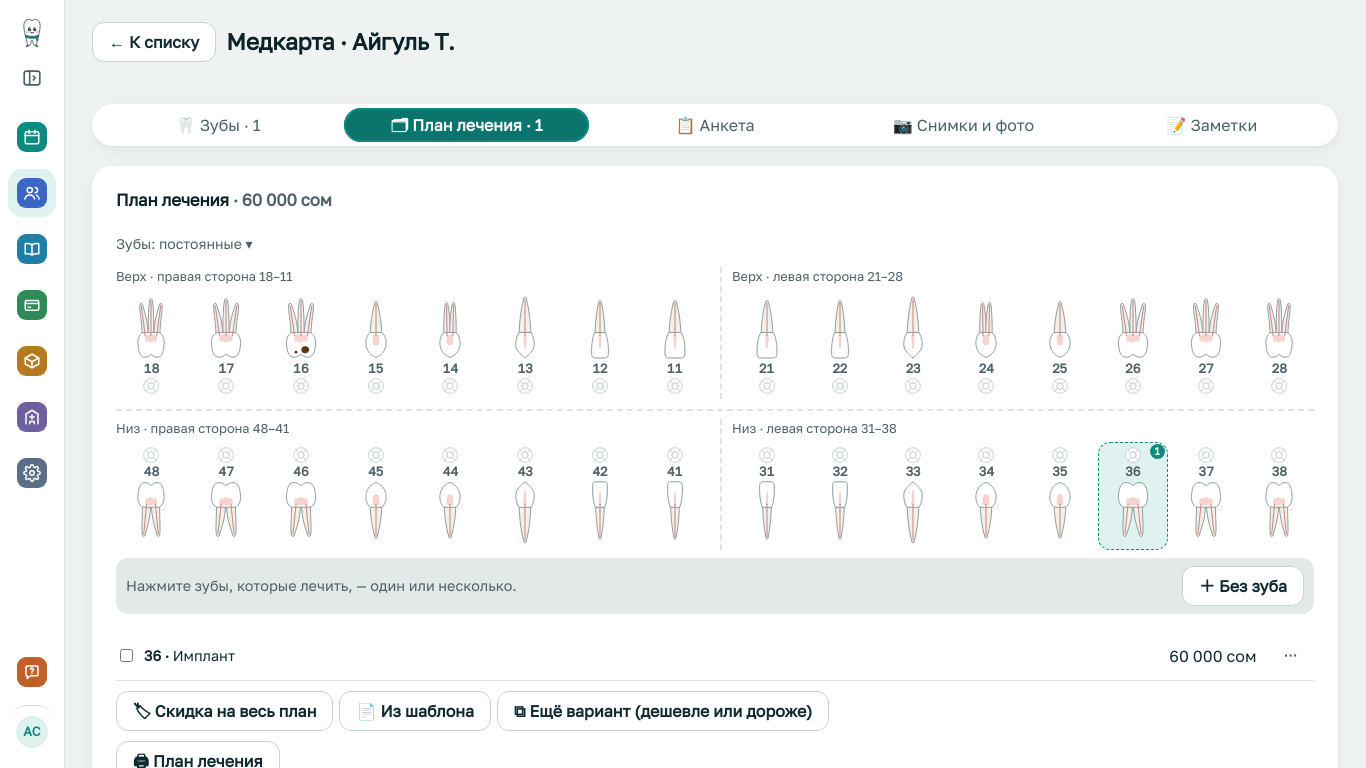
Test: с зубов: два зуба → «Что сделать» → услуга из прайса, цена за зуб × 2; зуб с этапом подсвечен
The image size is (1366, 768).
Earlier steps of the test are not shown.
Expected: the button "36 1" has class "planned", [1098,442,1168,550]
Click the button named "Зуб 16:" at (301, 344), box [266,290,336,398]
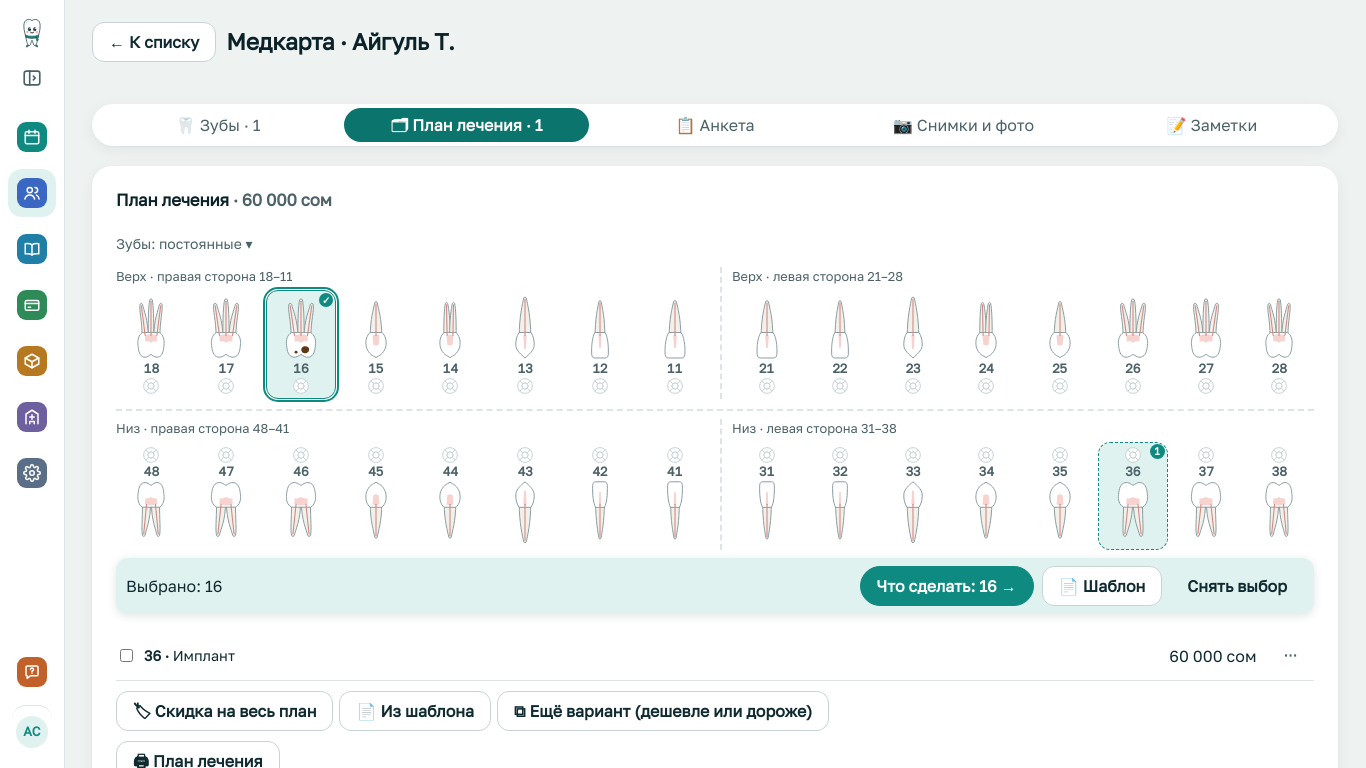
Click the button named "Зуб 17:" at (226, 344), box [191,290,262,398]
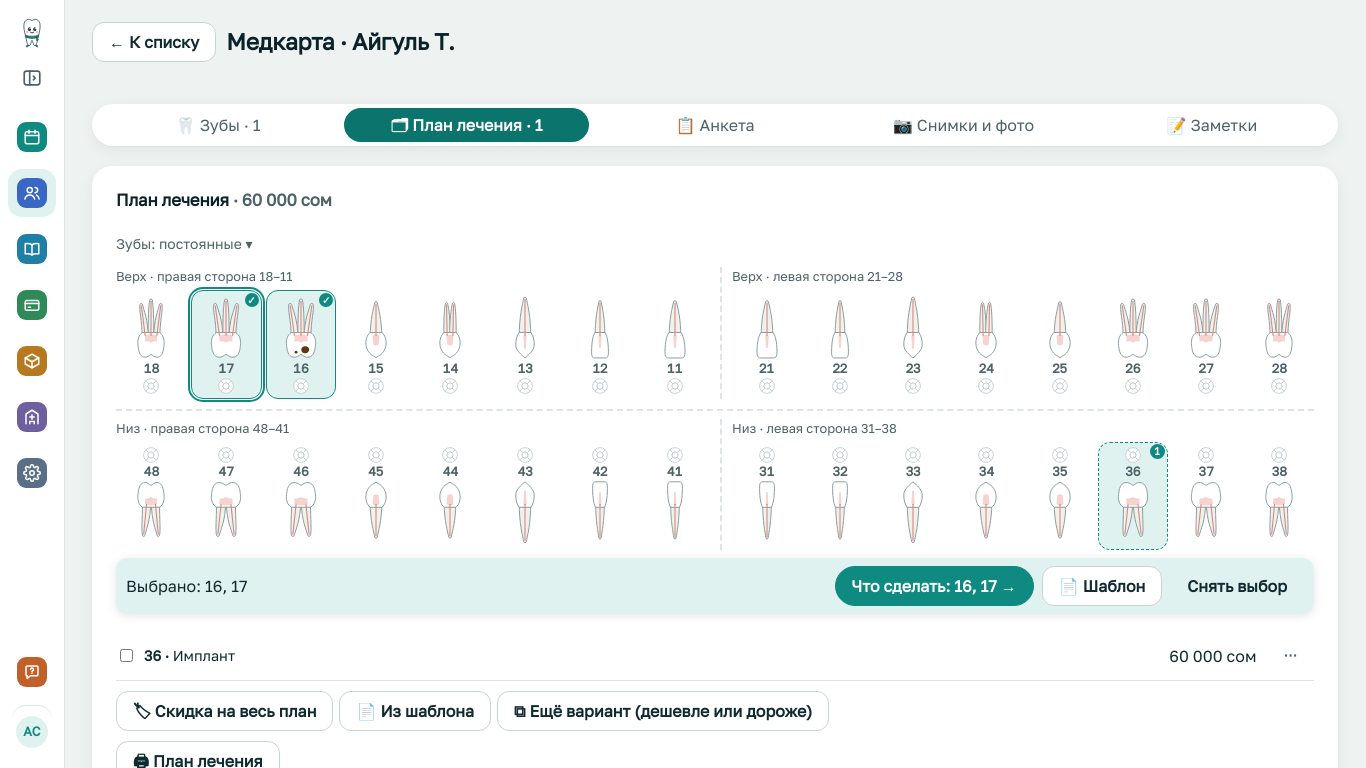
Click the button "Что сделать: 16, 17 →" at (934, 586), box [835,566,1034,606]
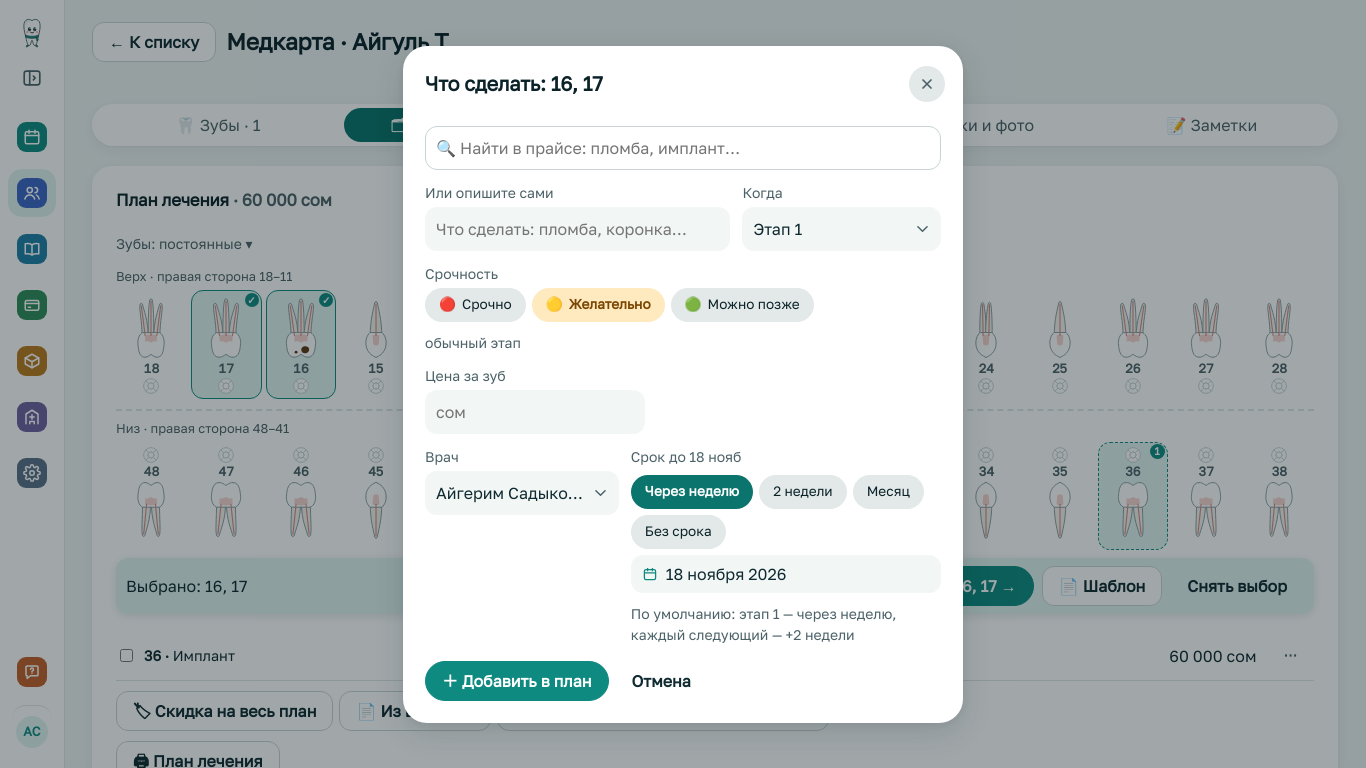
Type "плом" into the search field named "Найти услугу в прайсе" at (683, 148), box [425,126,941,170]
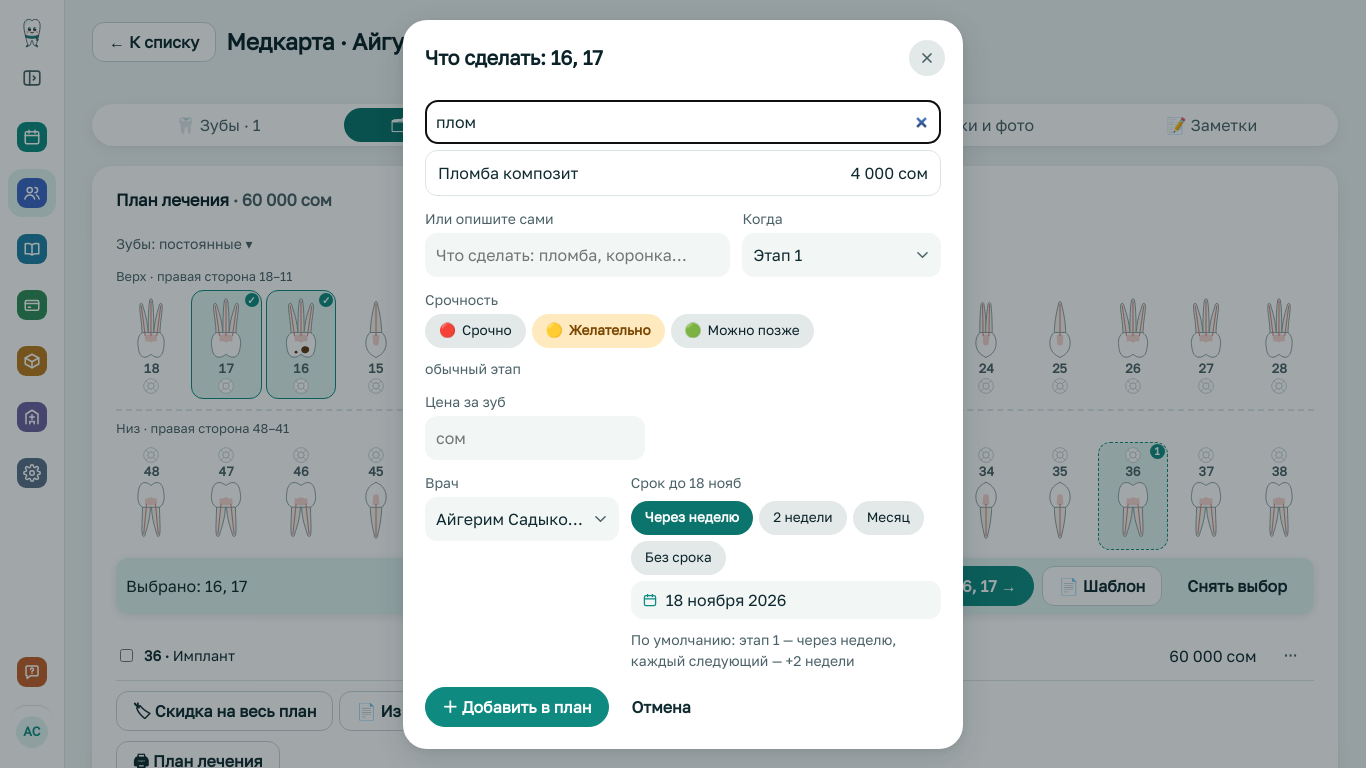
Click the button "Пломба композит 4 000 сом" at (508, 172), box [426,150,940,194]
(page scrolled)
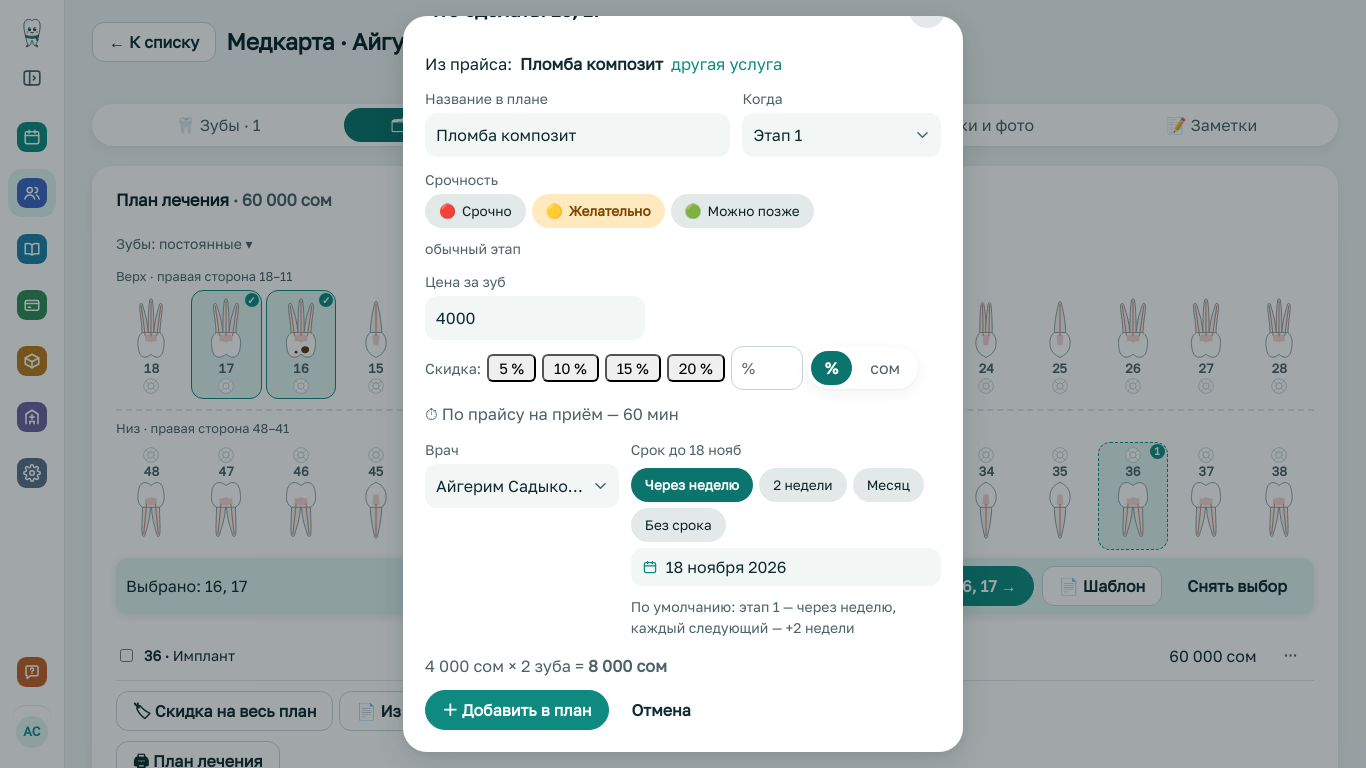
Expected: the number field named "Цена, сом" holds "4000", [425,296,645,340]
Click the button "＋ Добавить в план" at (517, 710), box [425,690,608,730]
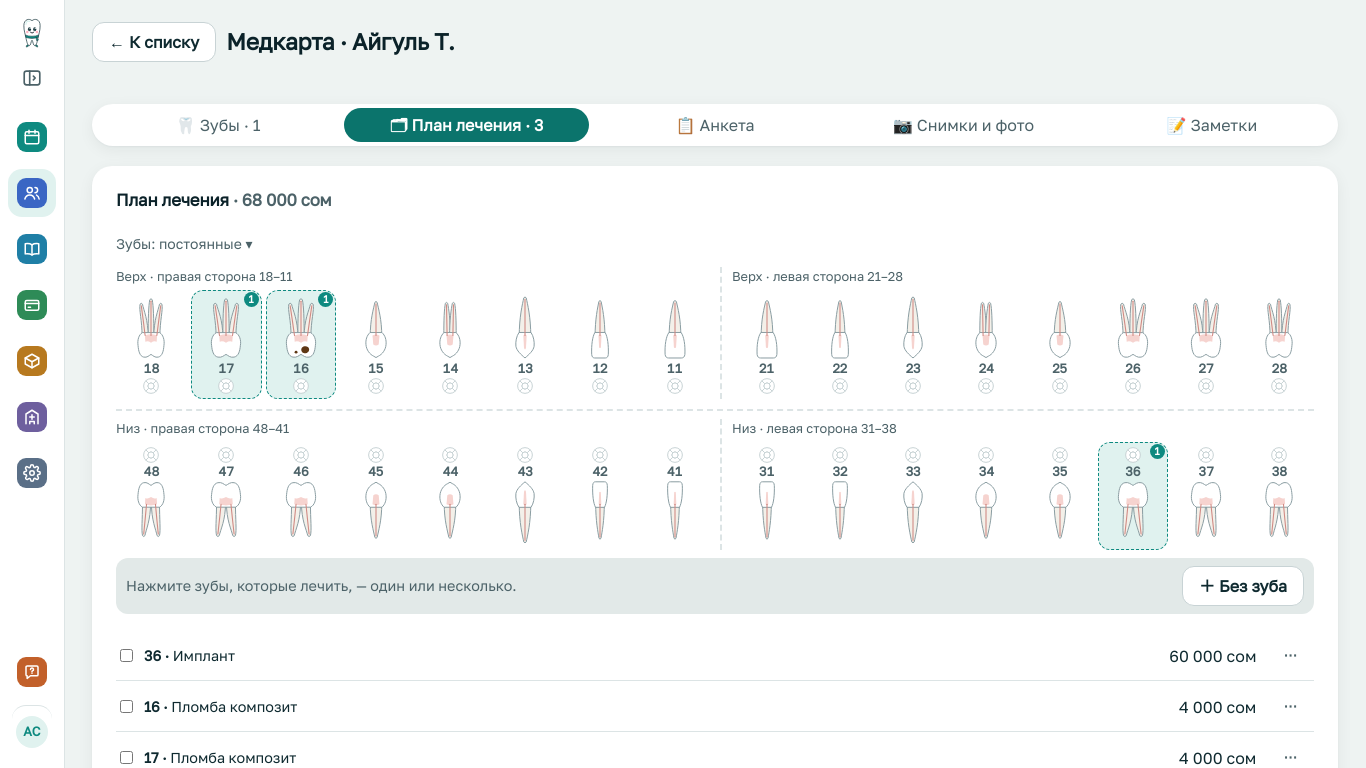
Expected: the text "16 · Пломба композит" is shown 2 times, [144,696,297,718]; [144,747,296,767]
